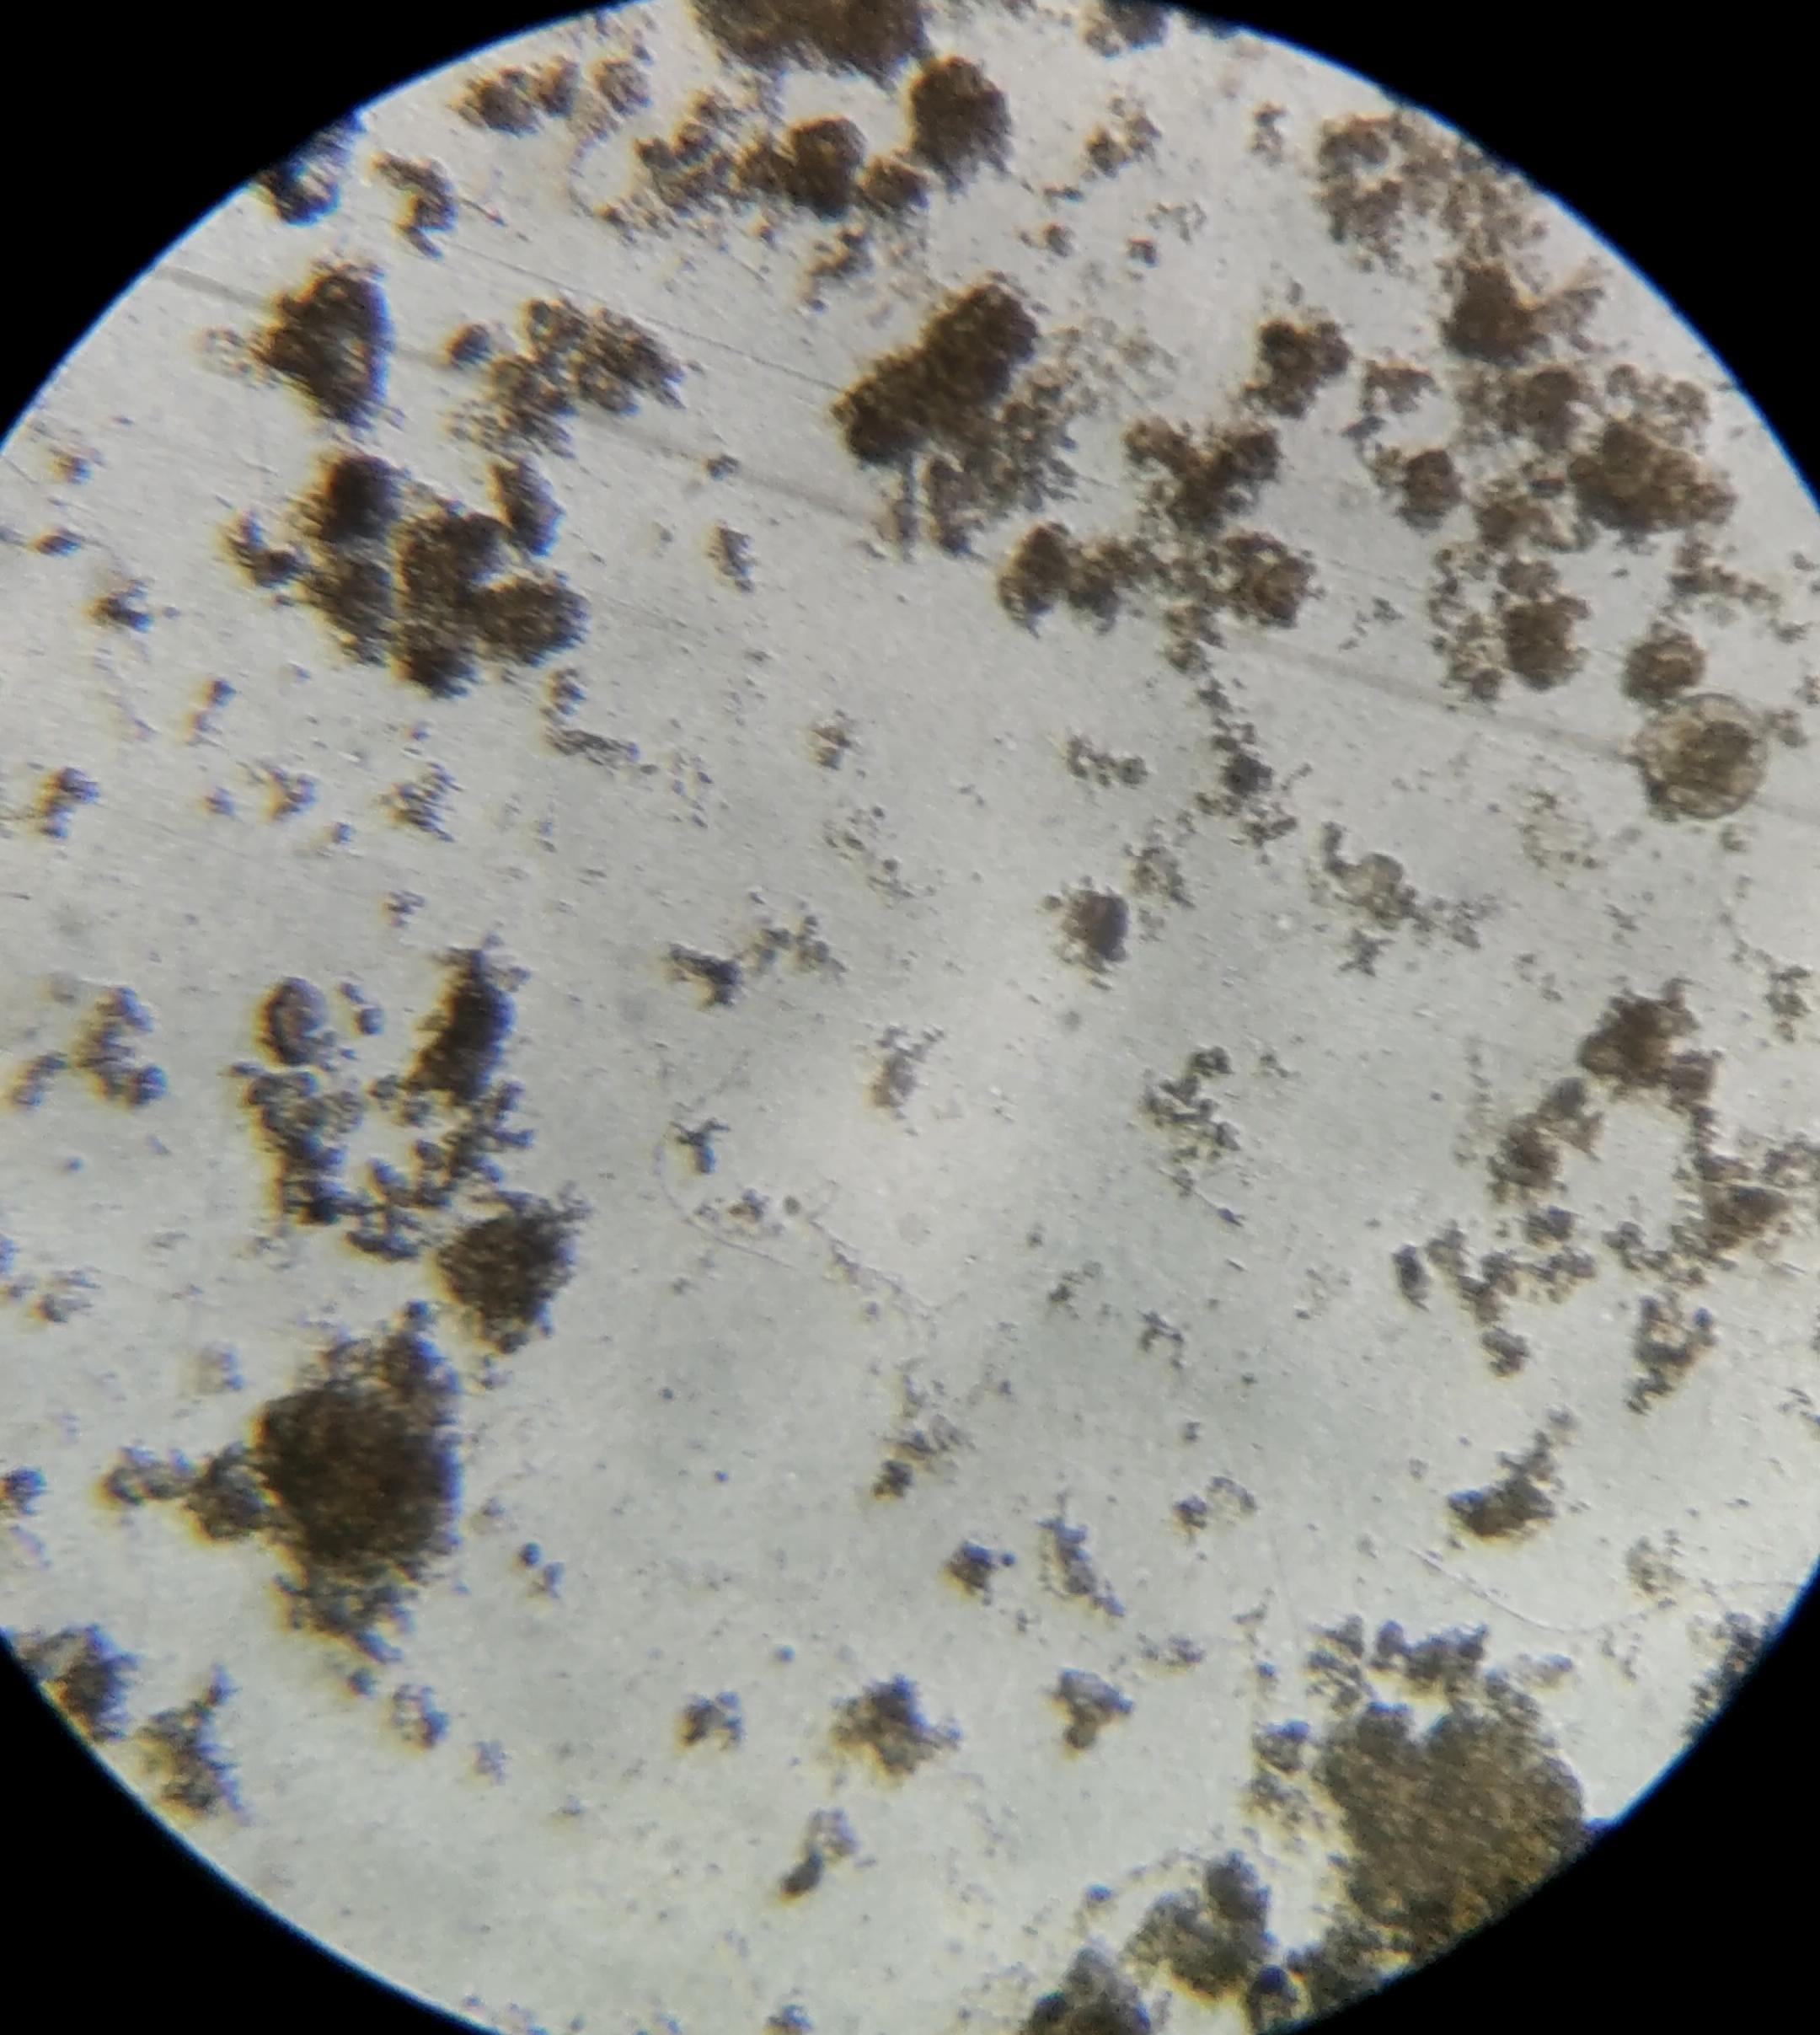Arcella: (1637, 694, 1764, 821)
